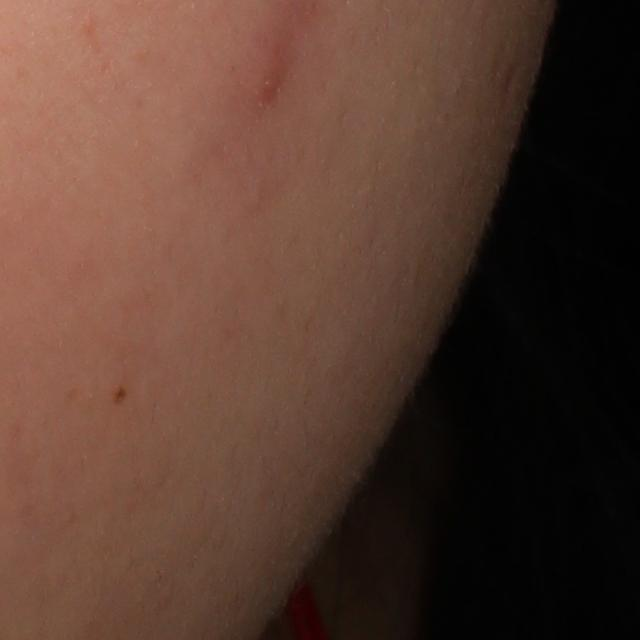nevus: (107, 381, 131, 410)
papule: (251, 56, 287, 112)
